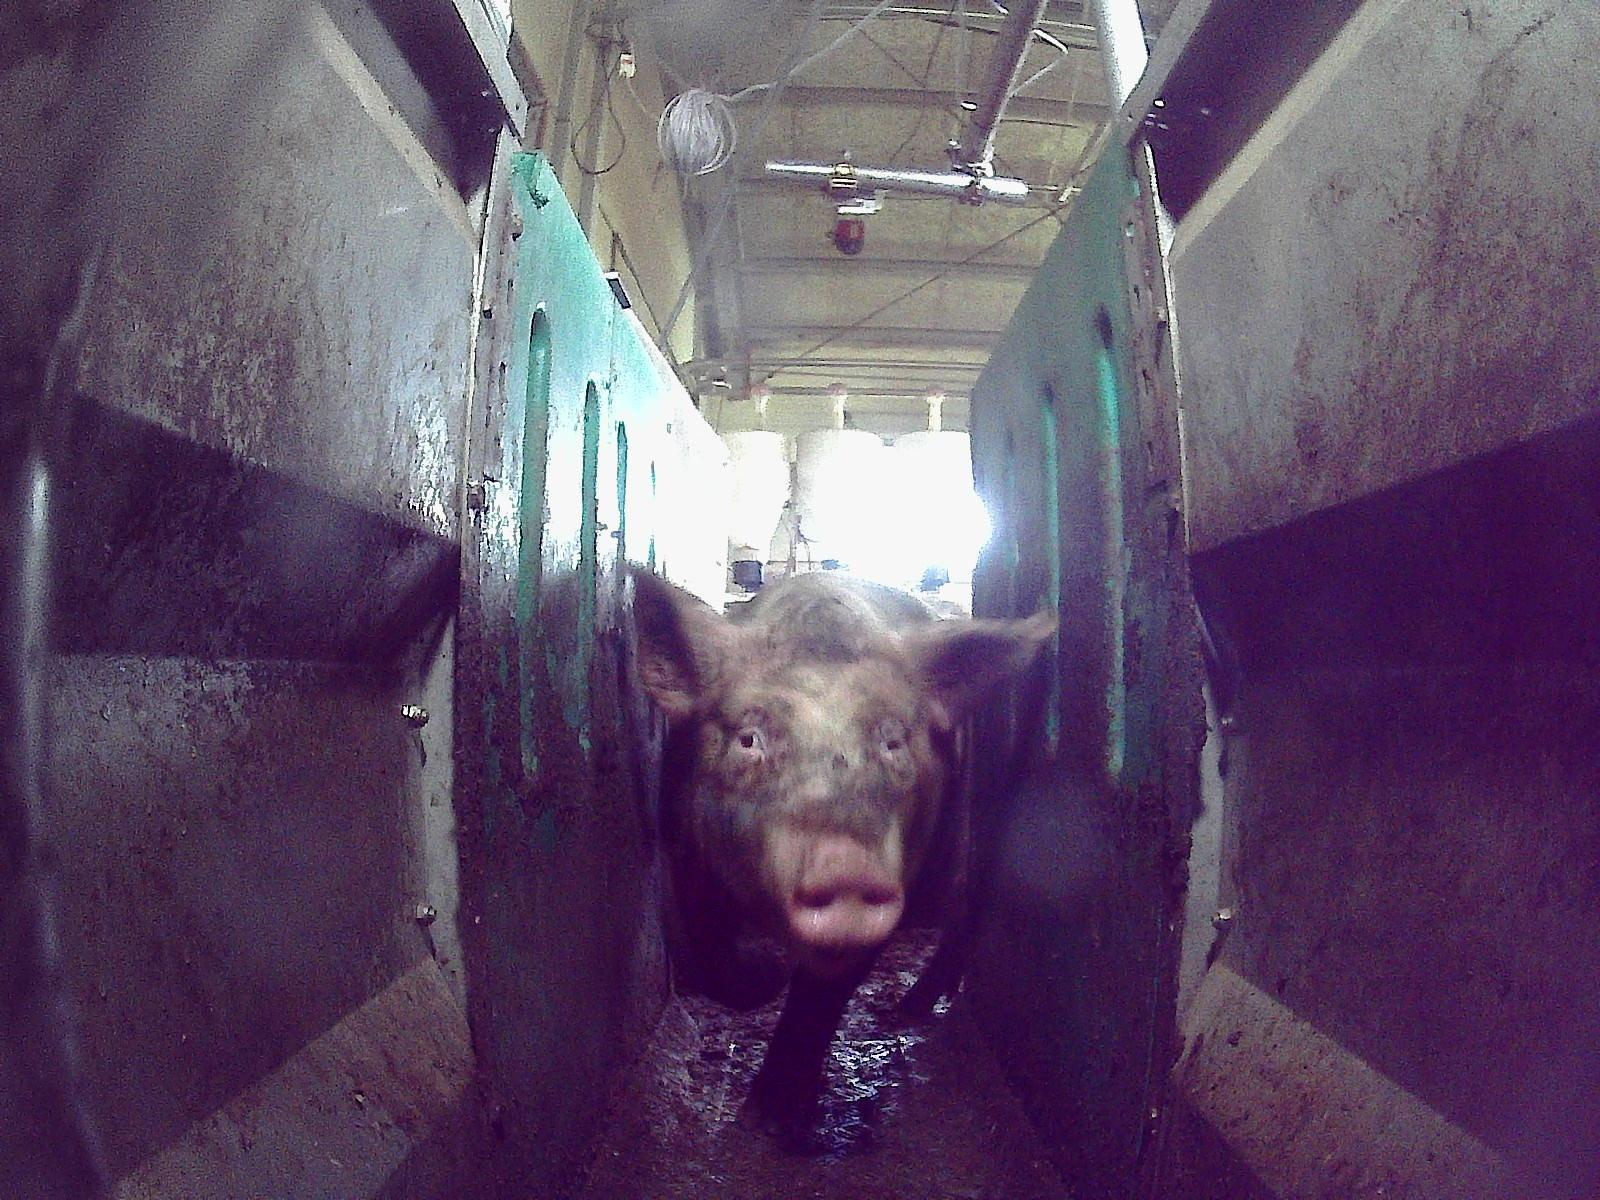Face: (692, 660, 943, 970)
